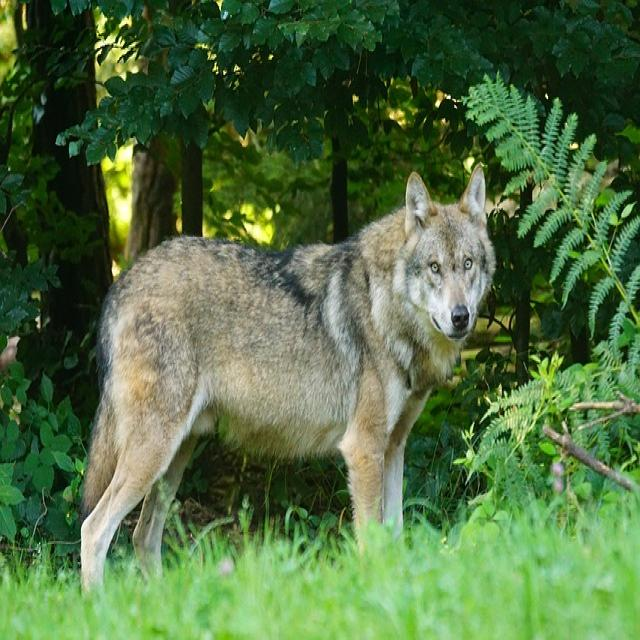Carnivorous: (80, 168, 498, 591)
